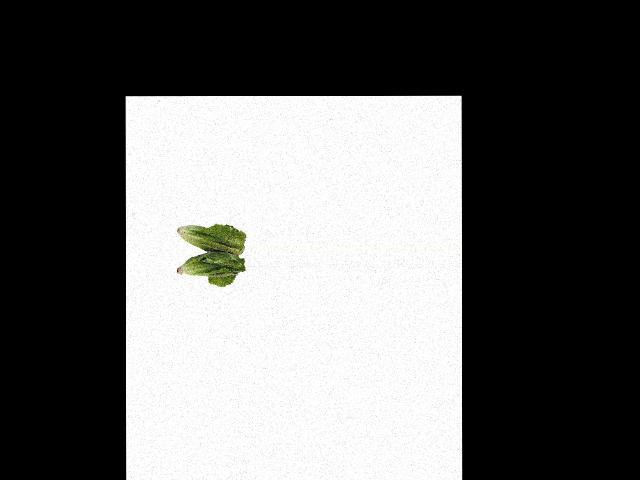lettuce: (176, 220, 246, 280)
